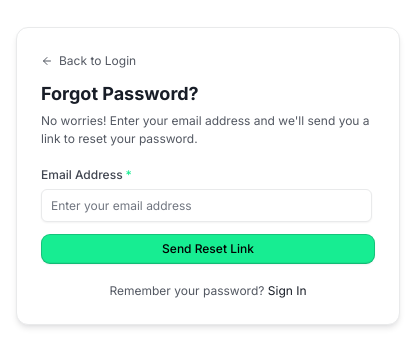
Test: ForgotPasswordPage › Email Validation › should show required error when email is empty on blur
Click the field with placeholder "Enter your email address" at point(206, 205), box [41,189,372,222]
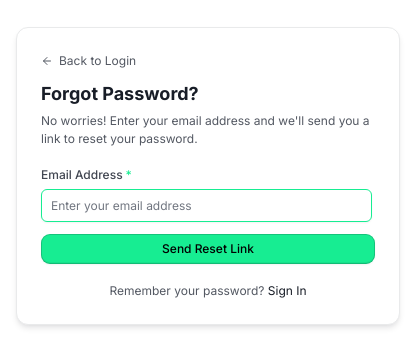
Press Tab
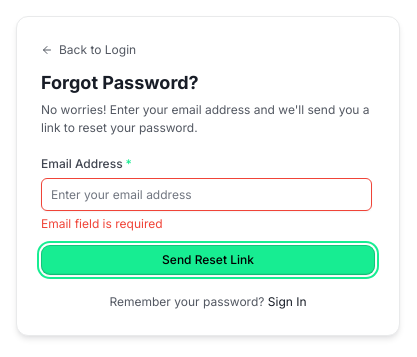
Now the text "Email field is required" is shown, box [41,216,163,231]
